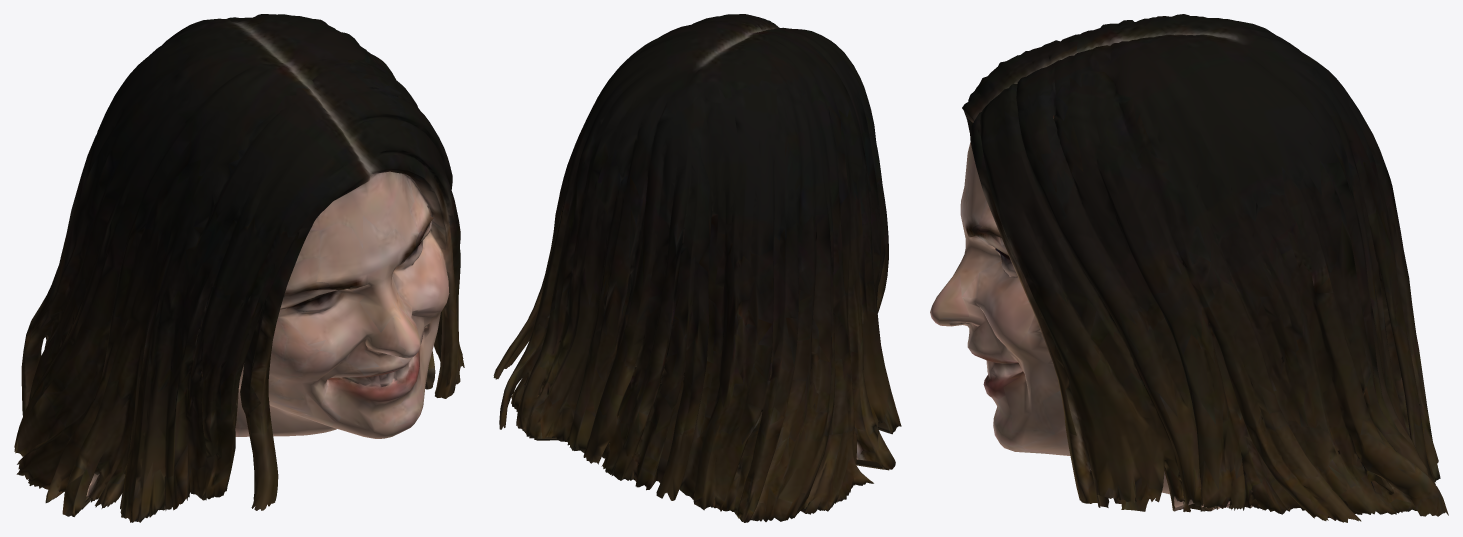
The model's file is head_andrea.glb.
3 views of the same model, side by side, from view 1: azimuth 30°, elevation 25°; view 2: azimuth 150°, elevation 25°; view 3: azimuth 270°, elevation 25° (orthographic). The views are drawn at different scales.
Parts seen in each view (by area): view 1: Mesh_0; view 2: Mesh_0; view 3: Mesh_0.
Part boxes in pixels (left/top/right/bottom): Mesh_0: left=14, top=14, right=464, bottom=522; Mesh_0: left=493, top=14, right=901, bottom=522; Mesh_0: left=930, top=14, right=1448, bottom=522.
Bounding box in the file's own units: 0.5108 × 0.5693 × 0.5538.
1 material, 1 textured.
